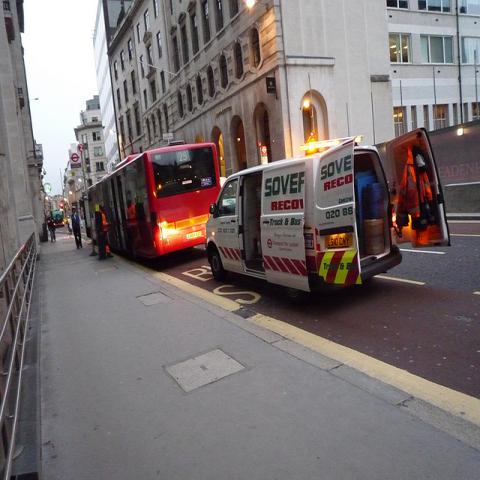bus: (79, 138, 222, 264)
truck: (204, 132, 450, 296), (50, 209, 66, 226)
